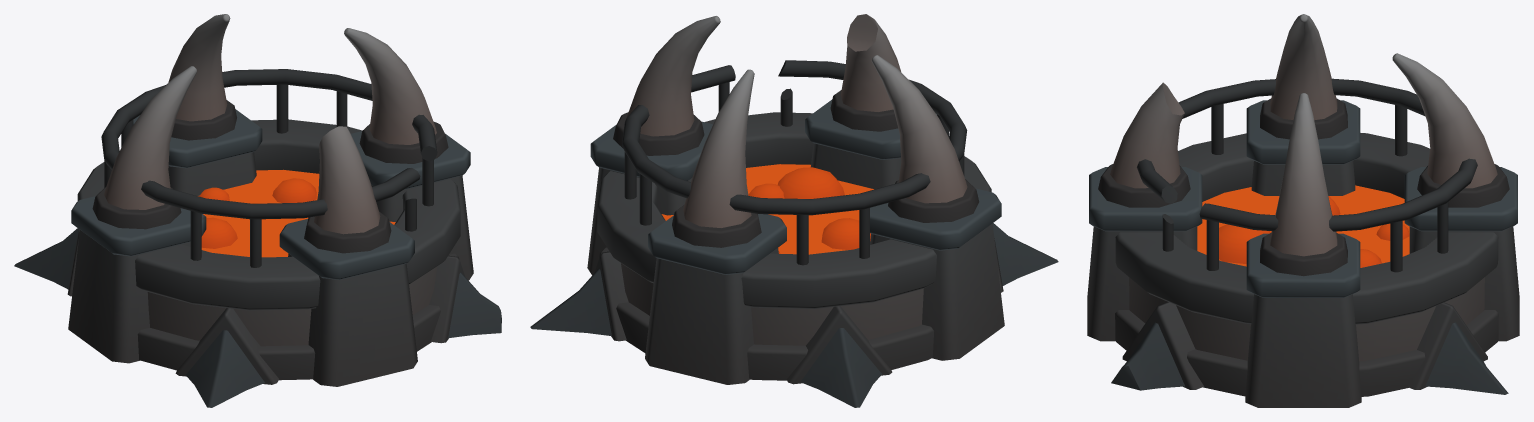
Rendered from inferno-well-small-001.glb.
The picture shows the model from 3 angles, left to right: view 1: azimuth 30°, elevation 25°; view 2: azimuth 150°, elevation 25°; view 3: azimuth 270°, elevation 25°; orthographic projection. The views are drawn at different scales.
Parts seen in each view (by area): view 1: WellSmall_001; view 2: WellSmall_001; view 3: WellSmall_001.
Part boxes in pixels (x1,y1,x2,y2): WellSmall_001: [14, 14, 501, 407]; WellSmall_001: [530, 14, 1058, 407]; WellSmall_001: [1087, 14, 1519, 407].
Size of the model in its own units: 5 by 3.36 by 5.
2 materials, 2 textured.
